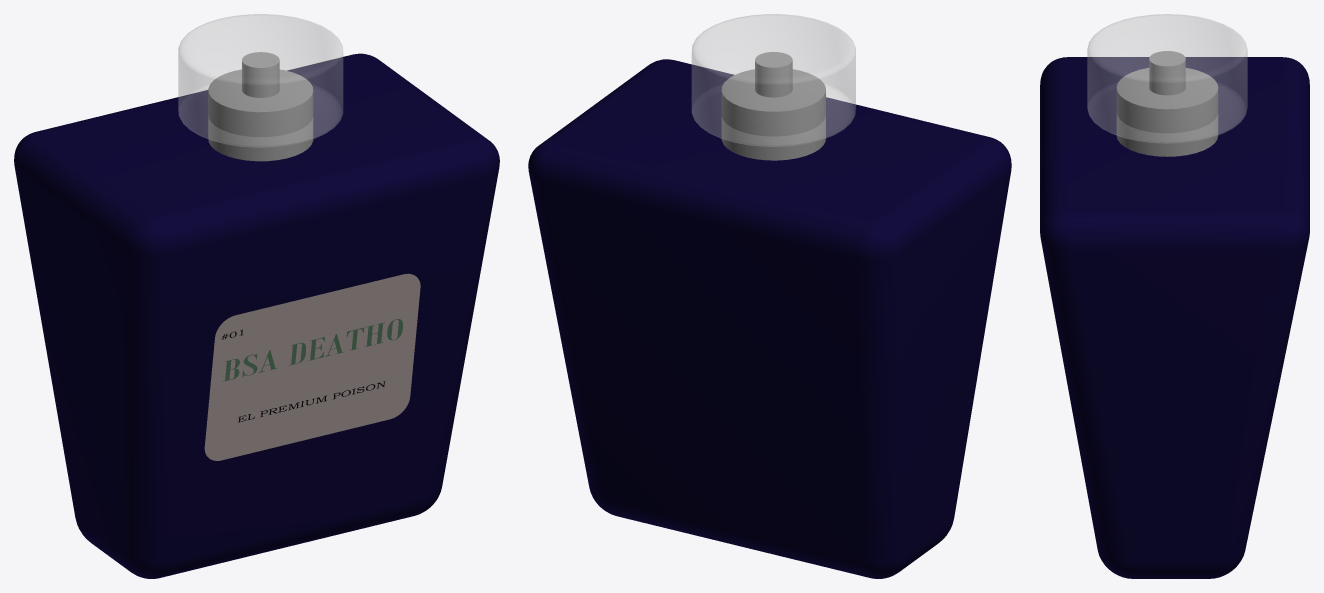
File: glass-study.glb
3 renders of one model, left to right at view 1: azimuth 30°, elevation 25°; view 2: azimuth 150°, elevation 25°; view 3: azimuth 270°, elevation 25°, orthographic. The views are drawn at different scales.
Parts seen in each view (by area): view 1: Cube, Plane, Cylinder.001, Cylinder, Text; view 2: Cube, Cylinder.001, Cylinder; view 3: Cube, Cylinder.001, Cylinder.
Part boxes in pixels (x1,y1,x2,y2): Cube: (14, 53, 499, 578); Plane: (204, 273, 420, 460); Cylinder.001: (178, 14, 342, 147); Cylinder: (208, 52, 313, 161); Text: (223, 319, 402, 381); Cube: (528, 59, 1011, 578); Cylinder.001: (692, 14, 855, 146); Cylinder: (721, 52, 825, 160); Cube: (1040, 57, 1309, 578); Cylinder.001: (1087, 14, 1247, 143); Cylinder: (1116, 51, 1218, 156).
Bounding box in the file's own units: 1.97 × 2.47 × 1.28.
